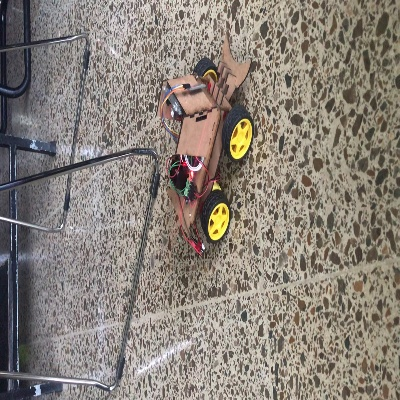Robot: (154, 30, 251, 247)
